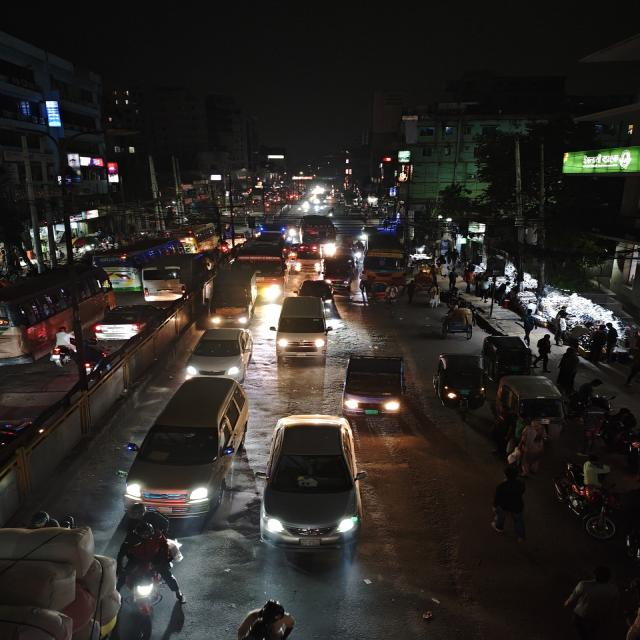bus: (0, 261, 113, 364), (95, 238, 178, 286), (239, 237, 289, 289), (363, 235, 412, 279), (300, 215, 340, 257), (170, 223, 218, 253)
car: (126, 374, 251, 522), (262, 412, 365, 556), (93, 300, 184, 344), (274, 293, 332, 361), (184, 324, 254, 378), (205, 267, 258, 326), (140, 264, 188, 302), (295, 279, 336, 303), (292, 244, 324, 273)
cng: (496, 373, 571, 435), (430, 349, 488, 413), (484, 333, 536, 376)
motorcycle: (117, 508, 181, 619), (552, 460, 620, 542), (579, 394, 613, 450), (613, 404, 640, 459), (44, 326, 78, 366), (74, 339, 109, 377)
pedestrian: (564, 563, 638, 640), (488, 466, 531, 542), (622, 569, 640, 639), (556, 346, 583, 387), (592, 321, 616, 366), (535, 332, 554, 366)
pickup_van: (339, 352, 408, 417), (318, 255, 356, 291)
rickshaw: (439, 308, 476, 341), (364, 280, 396, 310)
